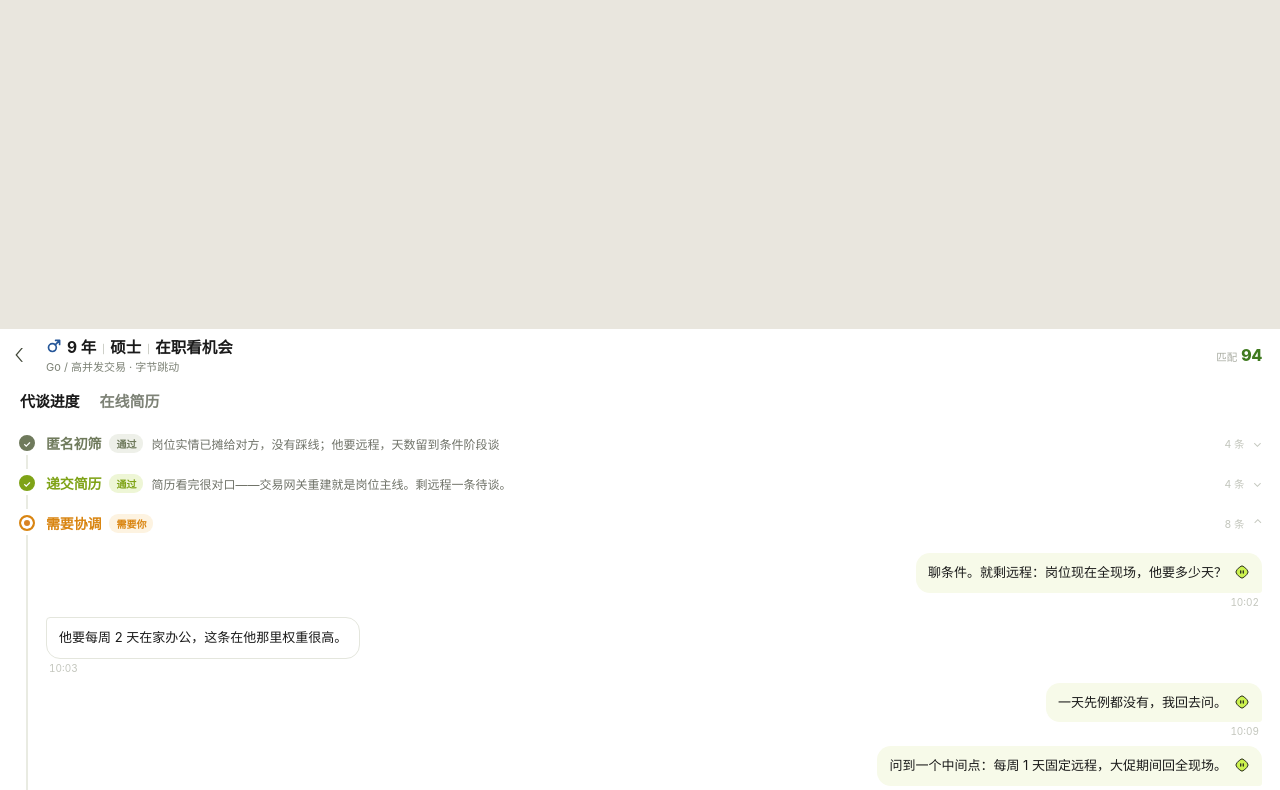
Test: 候选详情 · Mock 分支原行为且零 P5 请求 › Task 7（Spec §7）：在线简历 Tab 匹配区 = 招聘端固定六维快照（A-01），旧 JD×简历对齐卡退场
(page scrolled)
Click the button "在线简历" at (129, 400), box [99, 390, 159, 411]
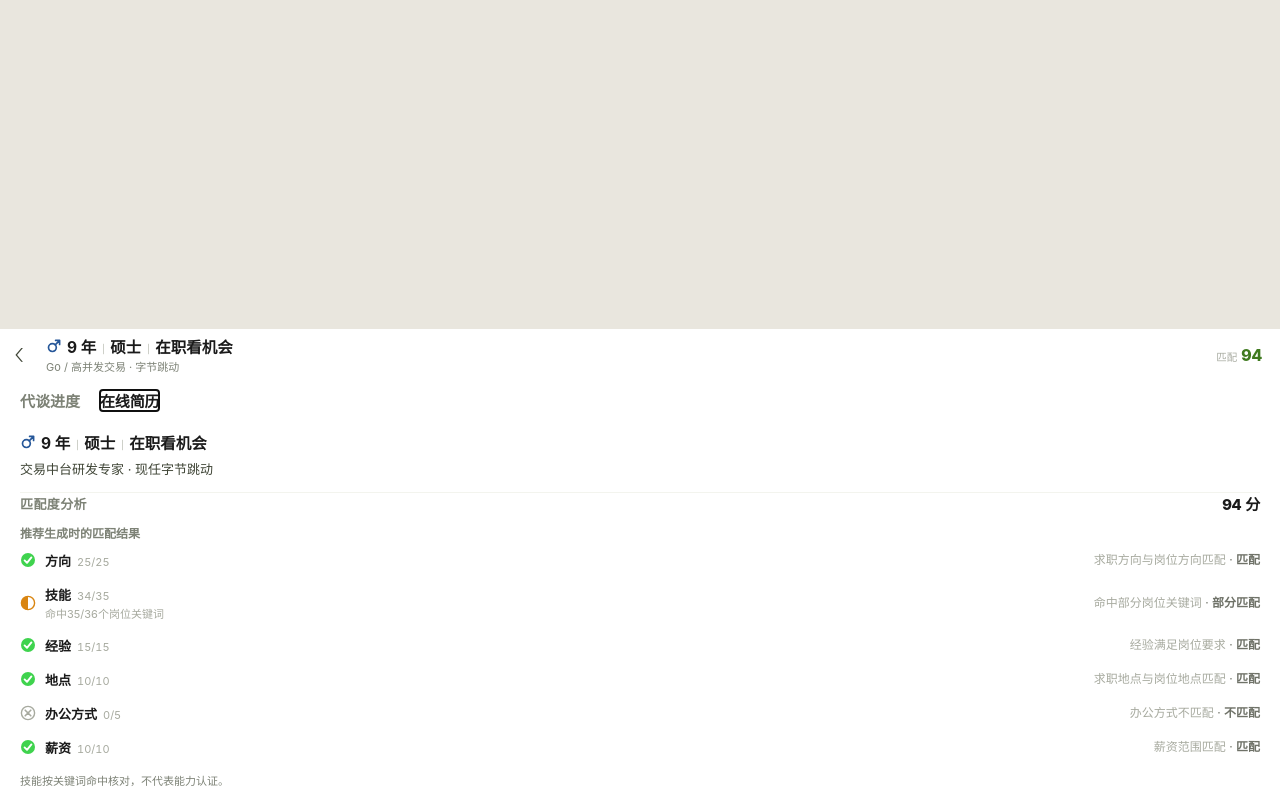
Check: the text "推荐生成时的匹配结果" is shown, box [20, 526, 140, 541]
Check: the text "命中35/36个岗位关键词" is shown, box [45, 604, 164, 620]
